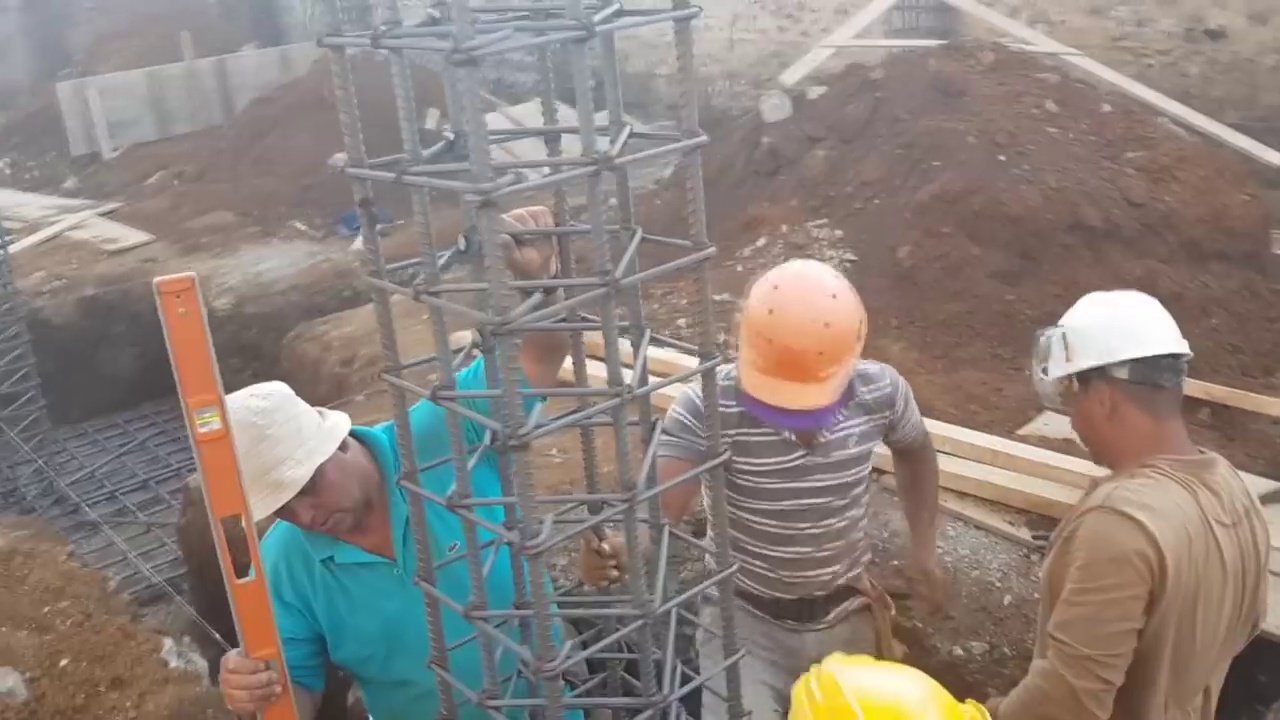helmet: (740, 265, 872, 419), (1037, 292, 1196, 412), (789, 653, 977, 720)
helmet-off: (207, 382, 385, 565)
helmet-on: (1035, 295, 1213, 484), (727, 262, 871, 449)
person: (196, 200, 583, 680), (616, 265, 945, 707), (983, 289, 1270, 720)
